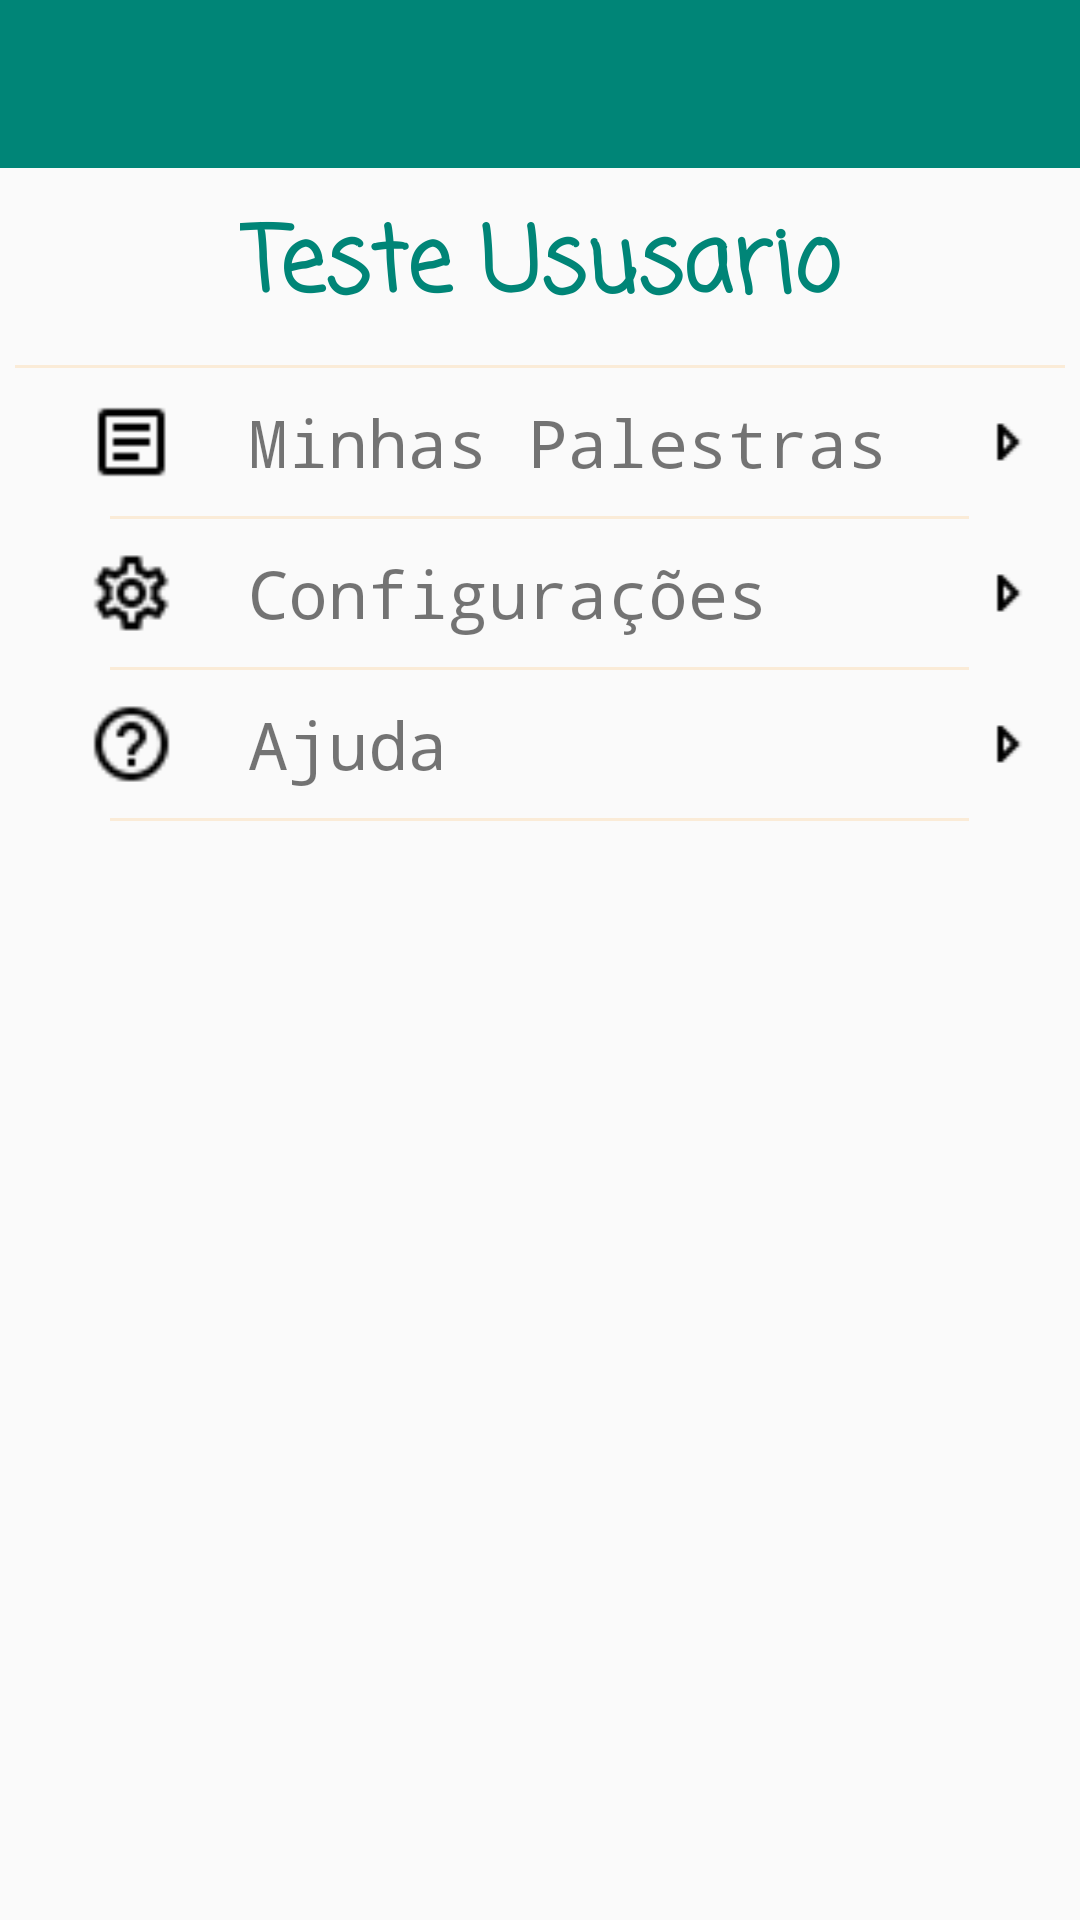

Where icons sit on this 1080px×1920px app screen, as [left=x1, top=y1, right=x2, bottom=y2]:
file document: [left=97, top=408, right=166, bottom=476]
help circle: [left=93, top=706, right=170, bottom=782]
right: [left=996, top=423, right=1021, bottom=461], [left=996, top=574, right=1021, bottom=612], [left=996, top=725, right=1021, bottom=763]
settings: [left=94, top=555, right=169, bottom=631]
